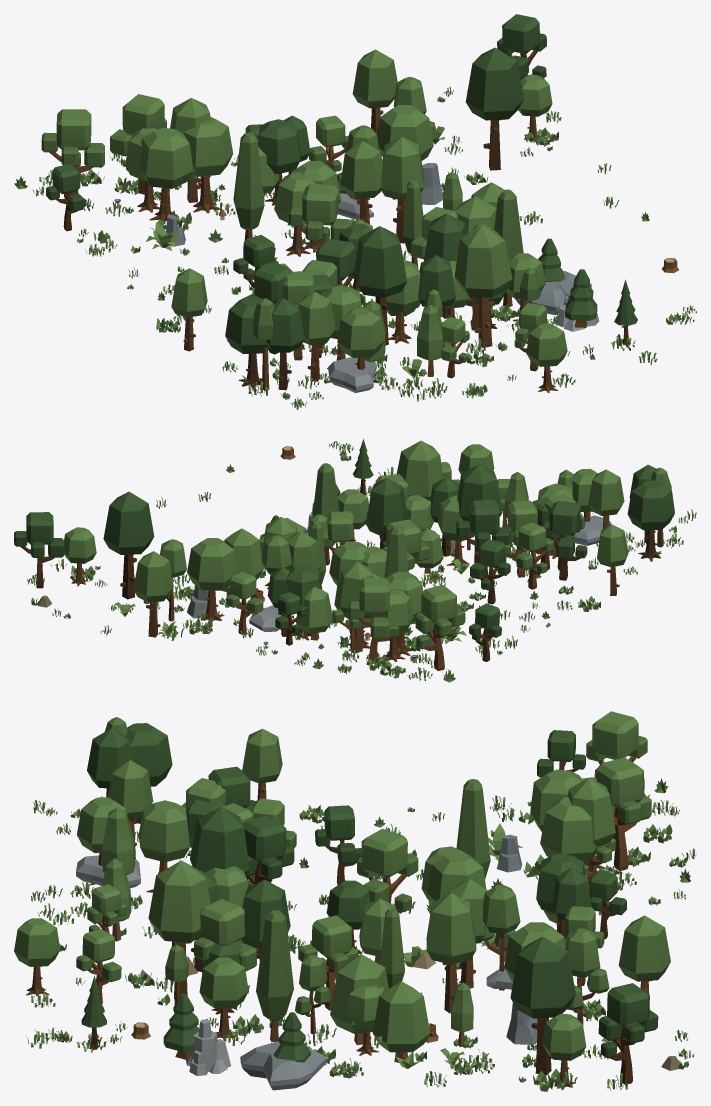
The model's file is cell_x-2_z-1_render.gltf.
3 renders of one model, top to bottom at view 1: azimuth 30°, elevation 25°; view 2: azimuth 150°, elevation 25°; view 3: azimuth 270°, elevation 25°, orthographic. The views are drawn at different scales.
Visible parts, largest first — view 1: cell_x-2_z-1; view 2: cell_x-2_z-1; view 3: cell_x-2_z-1.
Boxes of the visible parts, left/top/right/bottom form: cell_x-2_z-1: left=14, top=14, right=696, bottom=409; cell_x-2_z-1: left=14, top=438, right=696, bottom=682; cell_x-2_z-1: left=14, top=711, right=696, bottom=1091.
Bounding box in the file's own units: 42.61 × 11.99 × 41.69.
